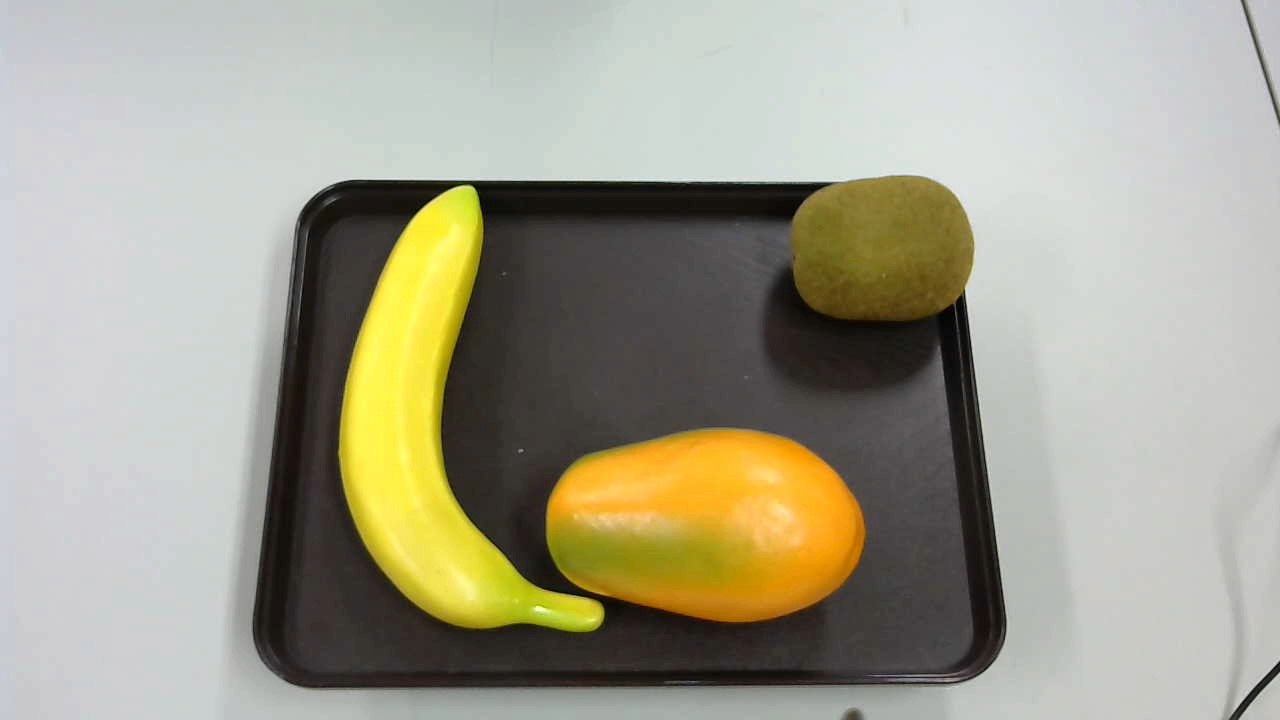banana: (337, 182, 604, 638)
kiwi fruit: (783, 177, 976, 320)
papya: (541, 426, 869, 626)
